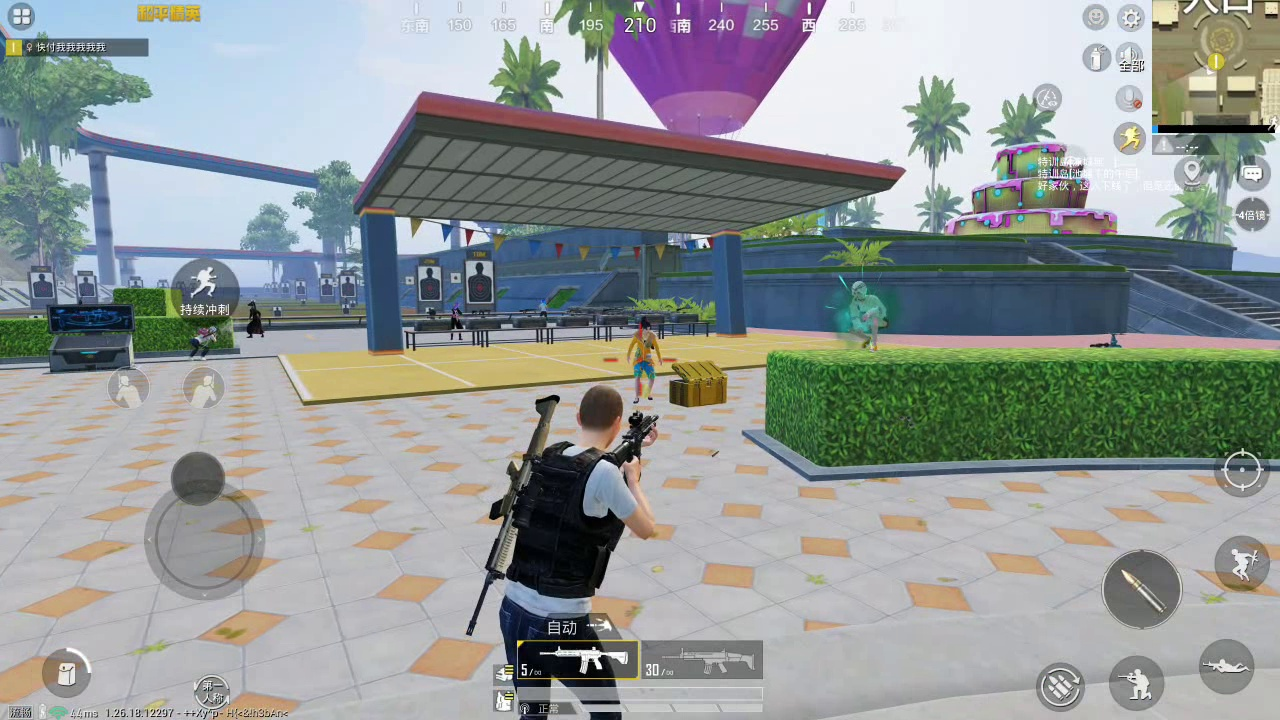enemy: (626, 316, 662, 402), (844, 280, 885, 353), (189, 325, 223, 359), (243, 299, 266, 340), (449, 300, 464, 341), (539, 295, 550, 319)
